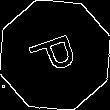P_E: (25, 29, 85, 81)
